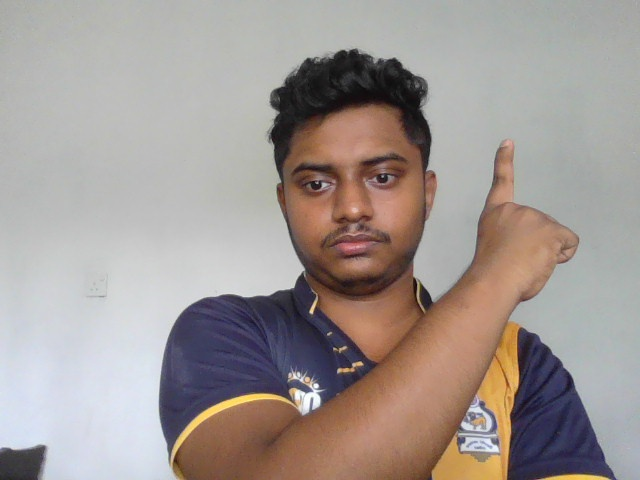Me: (473, 139, 582, 314)
